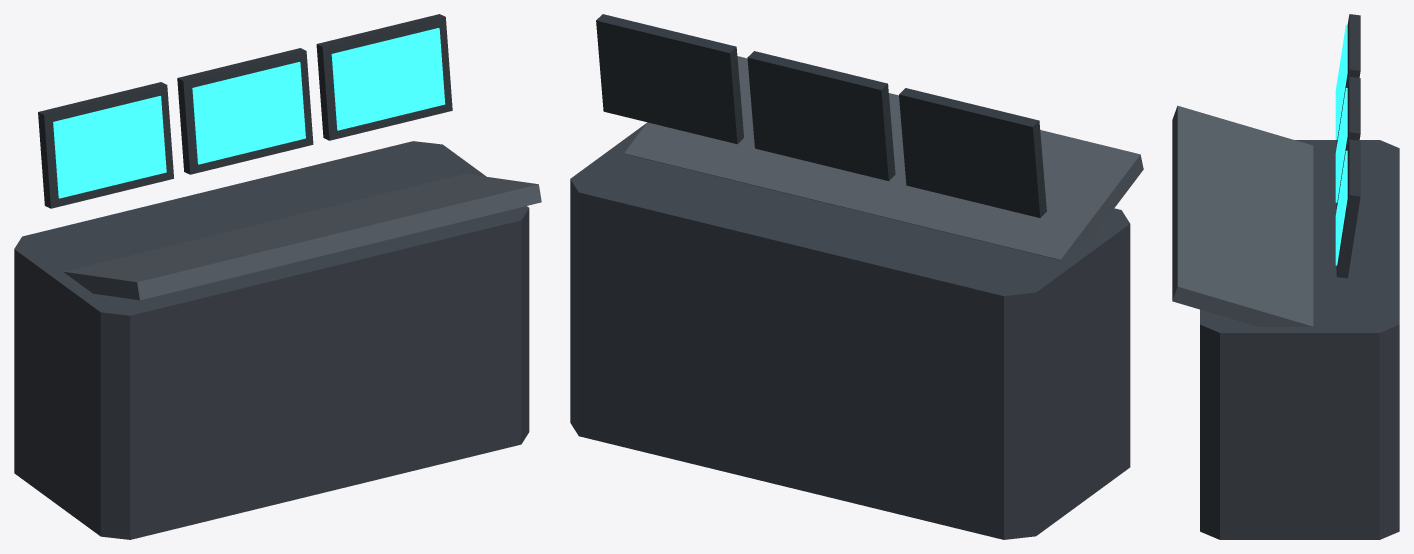
The model's file is hlx_prp_console_a.glb.
3 renders of one model, left to right at view 1: azimuth 30°, elevation 25°; view 2: azimuth 150°, elevation 25°; view 3: azimuth 270°, elevation 25°, orthographic. The views are drawn at different scales.
Visible parts, largest first — view 1: mesh_intact; view 2: mesh_intact; view 3: mesh_intact.
Boxes of the visible parts, <box> form: mesh_intact: <box>14,14,541,539</box>; mesh_intact: <box>570,14,1143,539</box>; mesh_intact: <box>1172,14,1399,539</box>.
Bounding box in the file's own units: 1.6 × 1.31 × 0.797.
